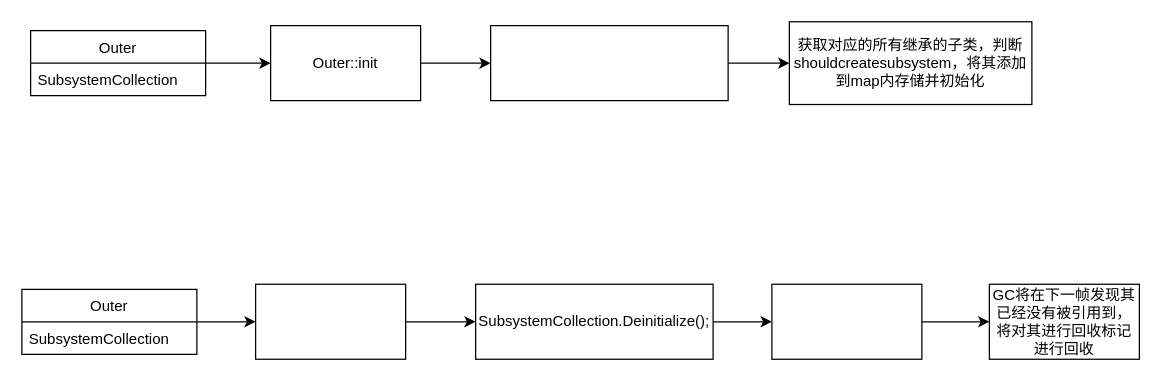
Some shapes in this 1161 by 381 pixel diagram are drawn without their labels. The shapes that lost their labels are listed below. From the top down, each one's centre as x and y in pixels, then its label:
At [608,62]: "SubsystemCollection.Initialize(this);".
At [330,321]: "Outer::Shutdown".
At [846,321]: "将存储结构中有关此类的置空".
